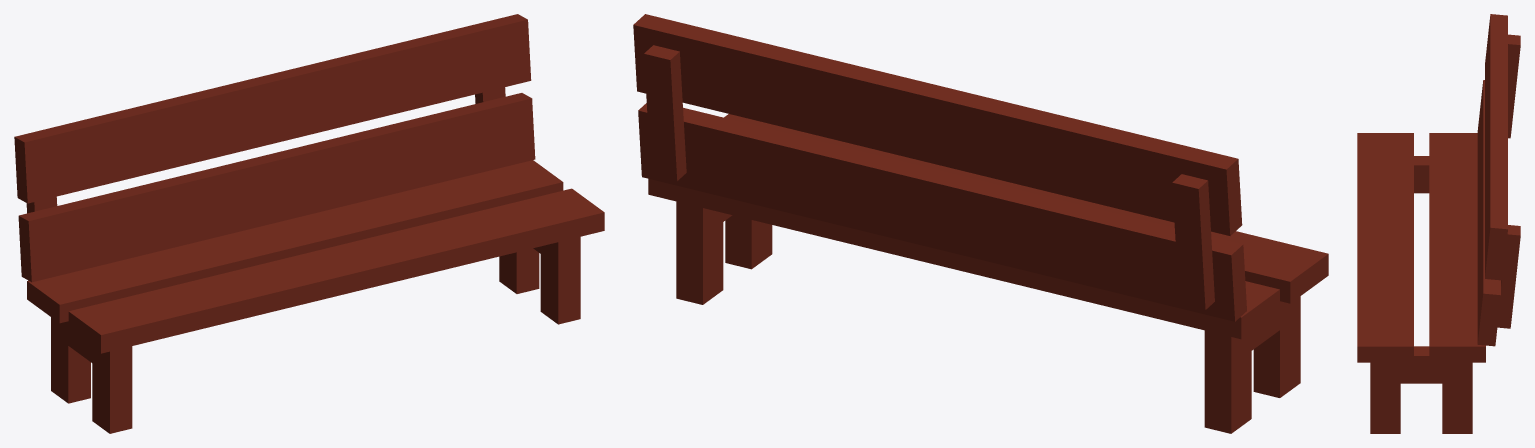
Rendered from mdl_Bench.fbx.
3 views of the same model, side by side, from view 1: azimuth 30°, elevation 25°; view 2: azimuth 150°, elevation 25°; view 3: azimuth 270°, elevation 25° (orthographic). The views are drawn at different scales.
Parts seen in each view (by area): view 1: Box001; view 2: Box001; view 3: Box001.
Part boxes in pixels (x1,y1,x2,y2): Box001: (14, 14, 604, 433); Box001: (633, 14, 1328, 433); Box001: (1357, 14, 1520, 433).
Size of the model in its own units: 49.01 by 15.85 by 22.79.
